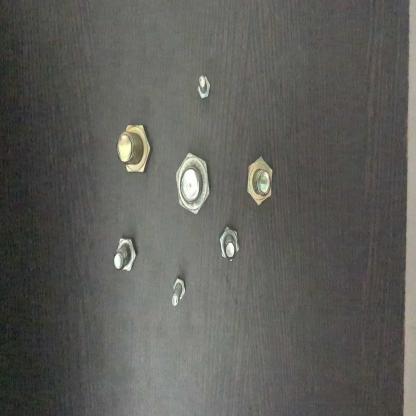Bolts: (171, 148, 214, 219), (242, 145, 278, 212), (116, 119, 154, 180), (109, 233, 142, 282), (218, 222, 246, 273), (166, 275, 194, 317), (194, 69, 214, 109)
